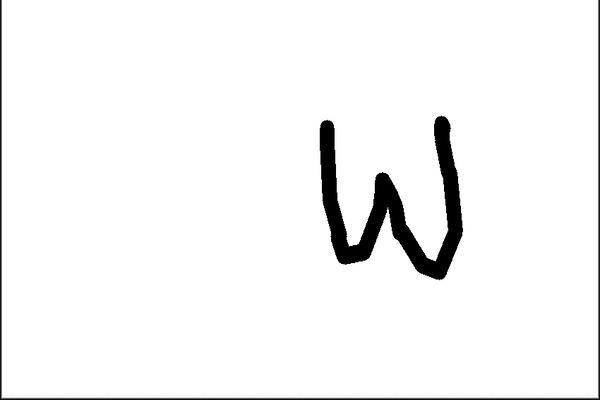w: (299, 106, 487, 295)
